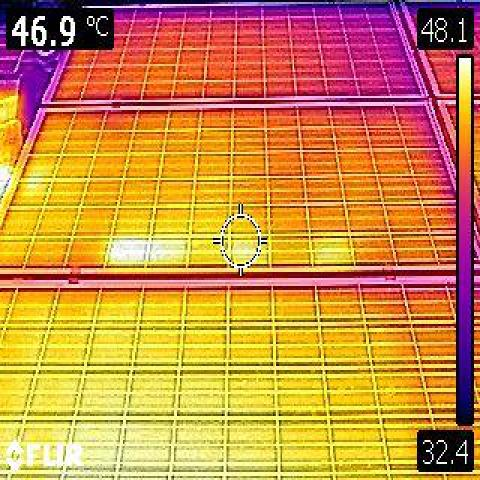fault: (106, 236, 150, 264)
